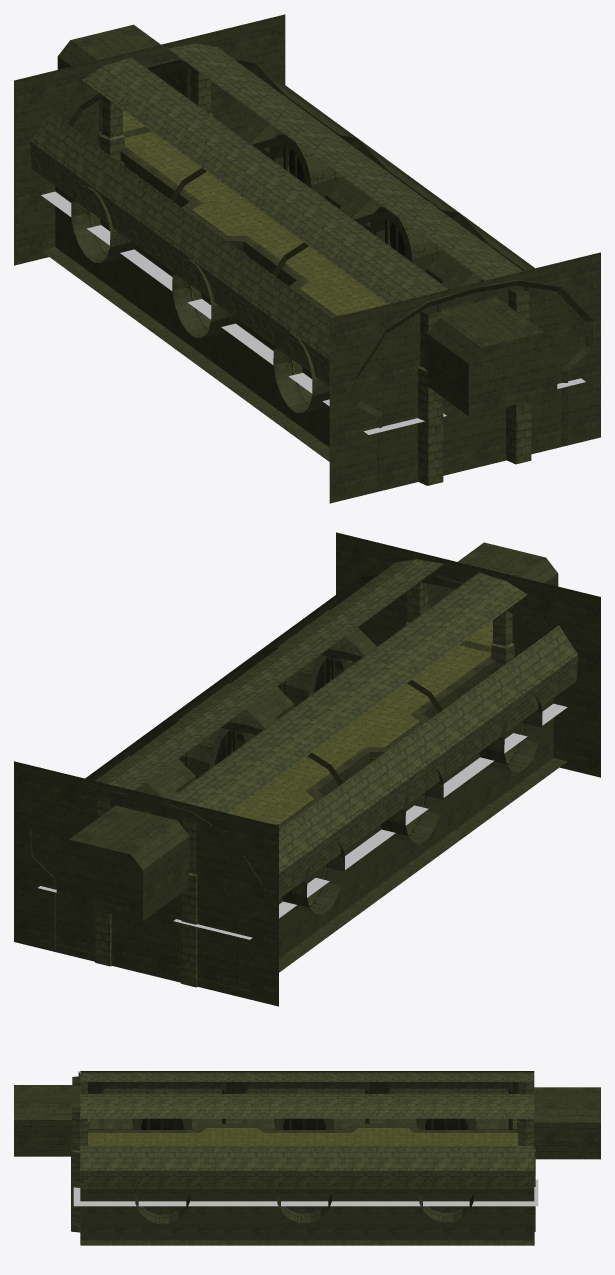
The model's file is Sewer_Straight.fbx.
3 views of the same model, one above another, from view 1: azimuth 30°, elevation 25°; view 2: azimuth 150°, elevation 25°; view 3: azimuth 270°, elevation 25° (orthographic). The views are drawn at different scales.
Visible parts, largest first — view 1: Sewer_Wall_MossyMasonry_Toon.floor, Sewer_Wall_MossyMasonry_Toon.Wall, Water; view 2: Sewer_Wall_MossyMasonry_Toon.floor, Sewer_Wall_MossyMasonry_Toon.Wall, Water; view 3: Sewer_Wall_MossyMasonry_Toon.floor, Sewer_Wall_MossyMasonry_Toon.Wall, Water.
Part boxes in pixels (x1,y1,x2,y2): Sewer_Wall_MossyMasonry_Toon.floor: (30, 43, 592, 490); Sewer_Wall_MossyMasonry_Toon.Wall: (14, 14, 600, 503); Water: (41, 191, 585, 434); Sewer_Wall_MossyMasonry_Toon.floor: (30, 559, 577, 994); Sewer_Wall_MossyMasonry_Toon.Wall: (14, 532, 600, 1006); Water: (38, 703, 567, 939); Sewer_Wall_MossyMasonry_Toon.floor: (78, 1071, 534, 1245); Sewer_Wall_MossyMasonry_Toon.Wall: (14, 1076, 600, 1232); Water: (73, 1179, 538, 1206).
Bounding box in the file's own units: 3819 × 2425 × 9926.
